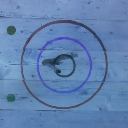Axe Tip: (51, 61, 59, 64)
